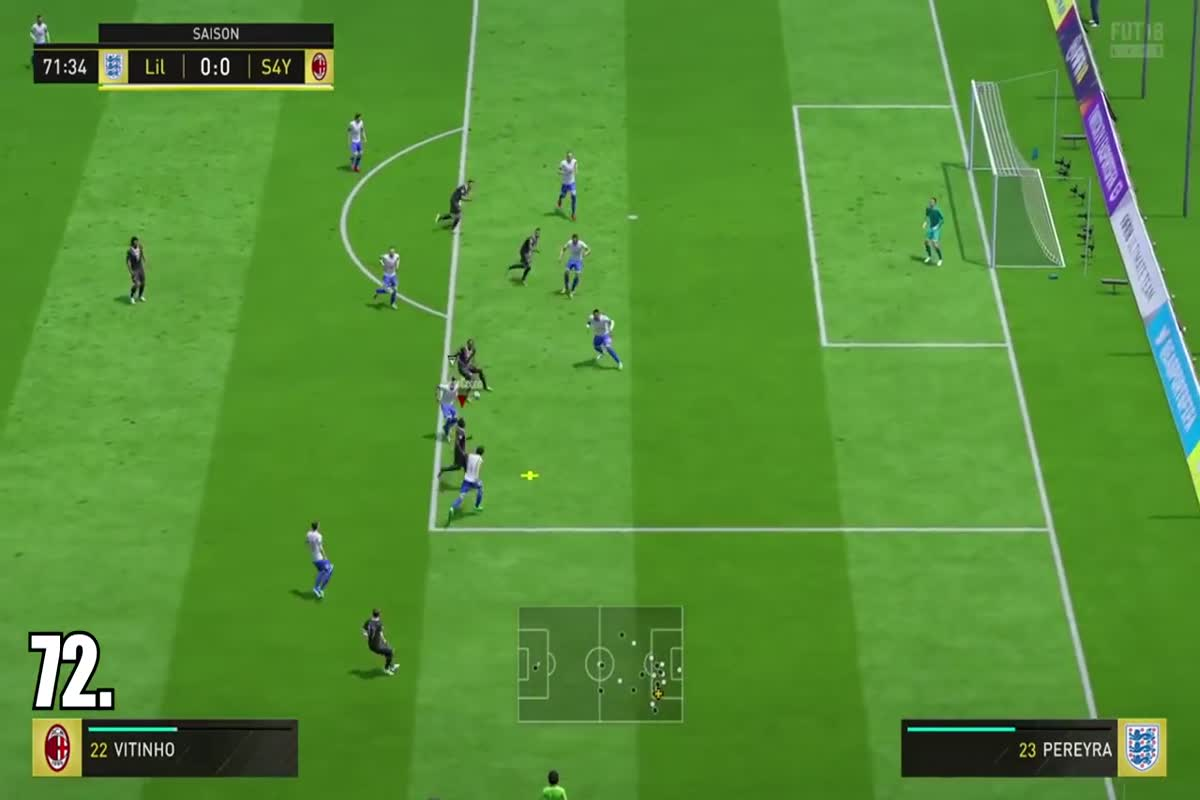ball: (464, 384, 497, 412)
